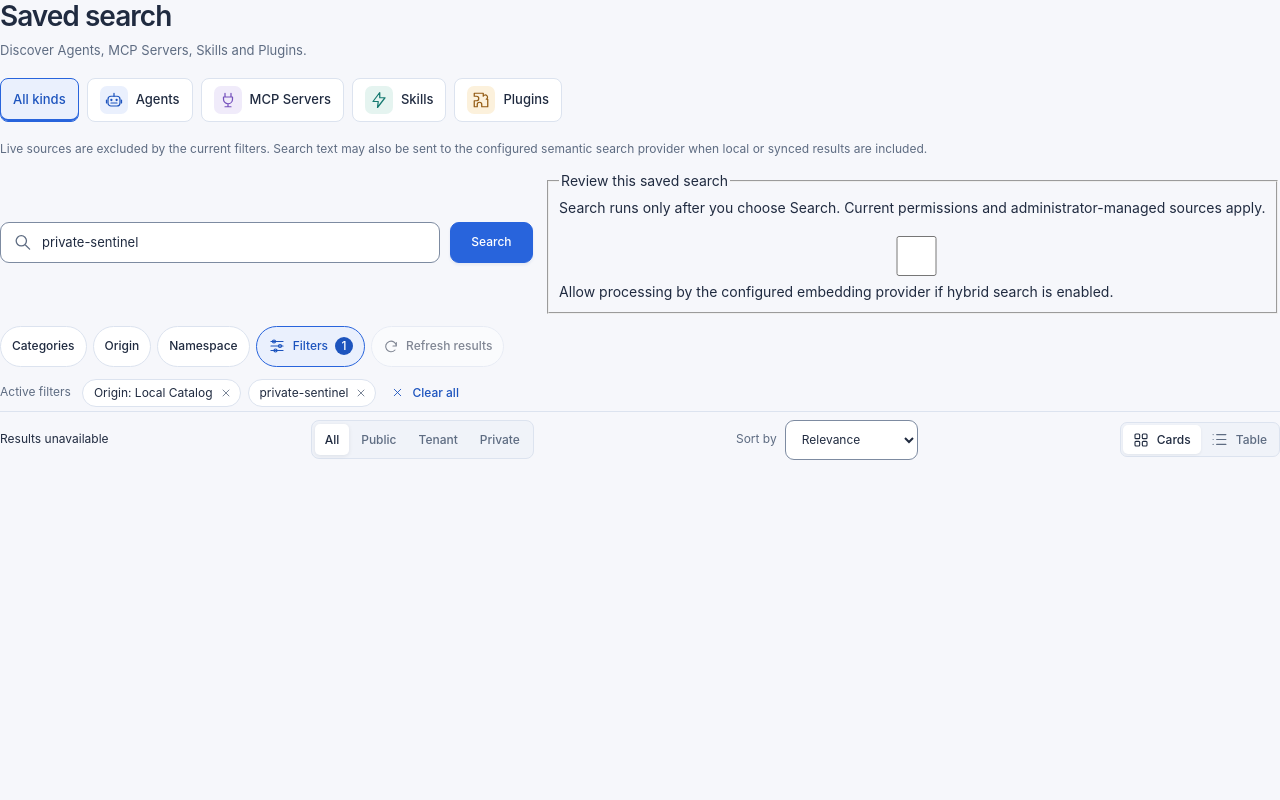
Scenario: keeps saved query text out of category requests before provider consent
The image size is (1280, 800).
Click the button "Categories" at (43, 346), box [0,326,87,367]
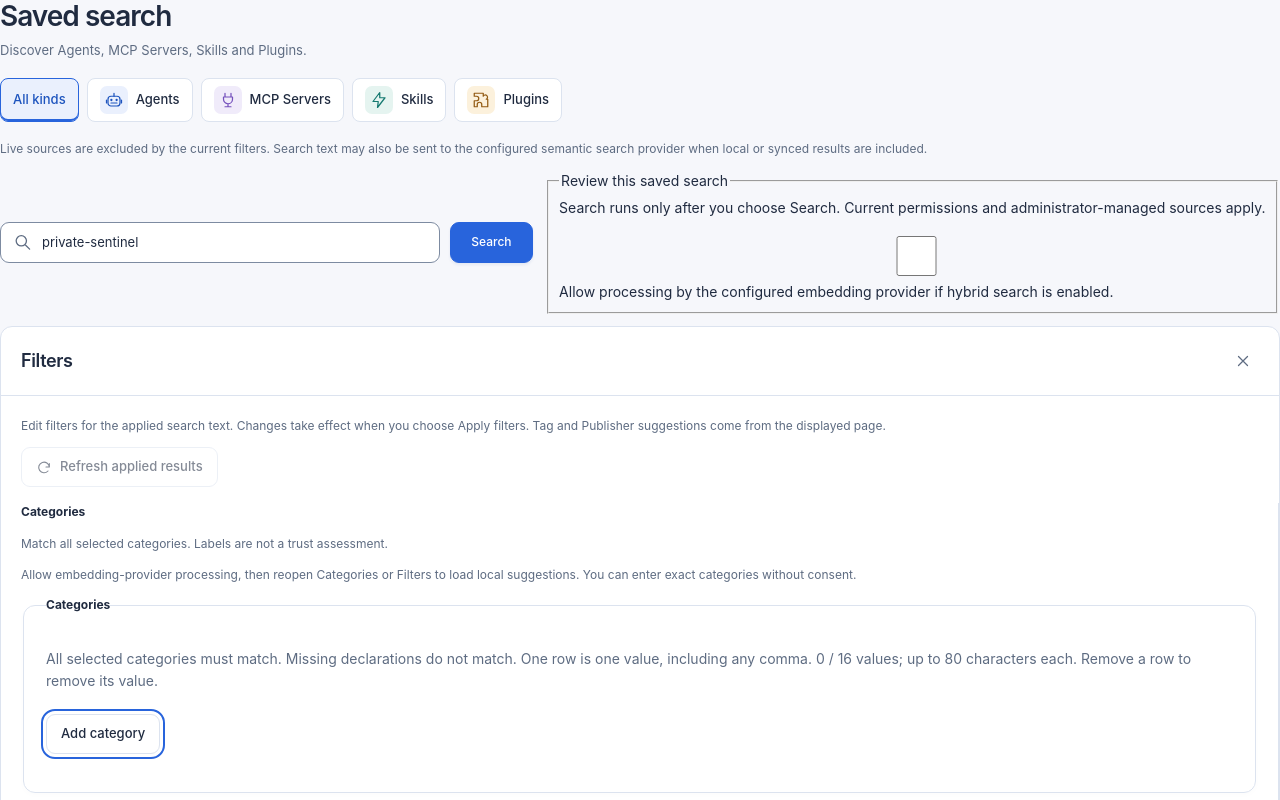
Now the button "Add category" is shown, box [46,714,160,754]
